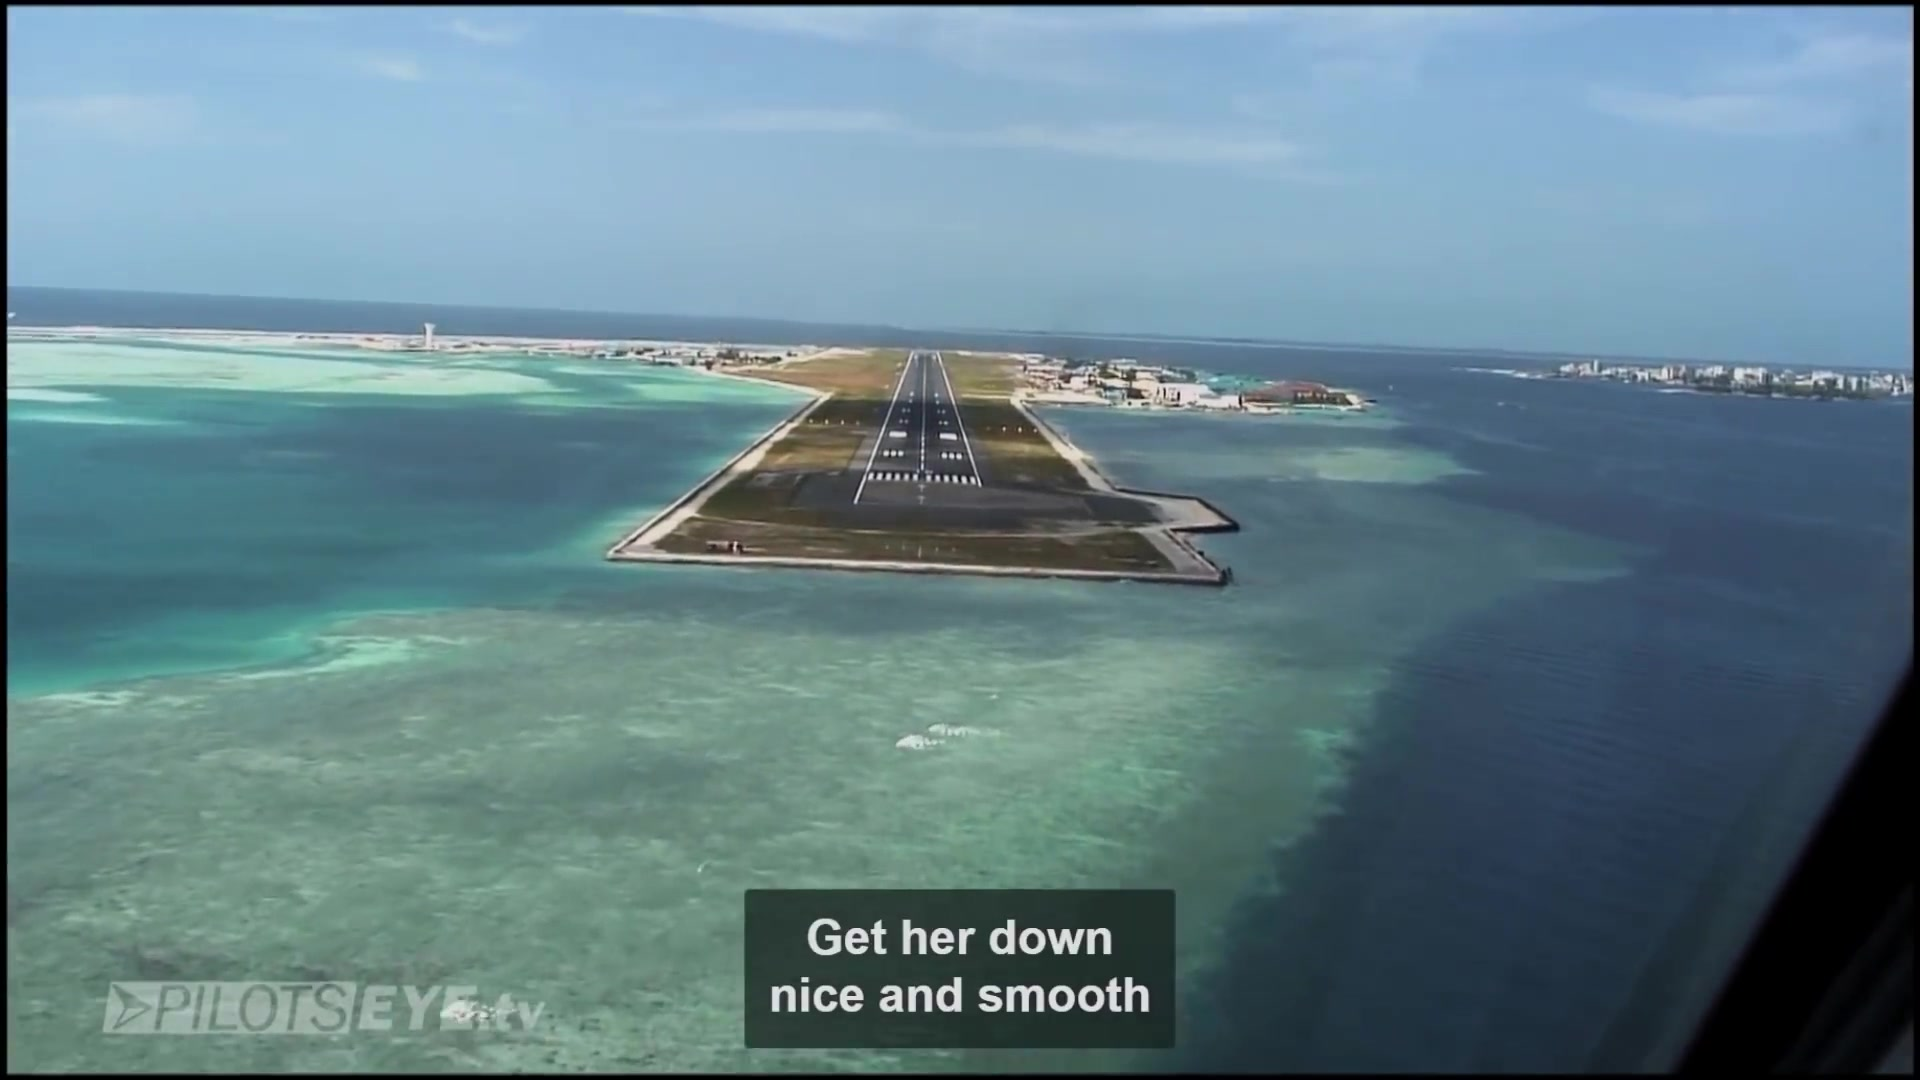entrance: (858, 464, 977, 489)
runway: (855, 349, 986, 505)
